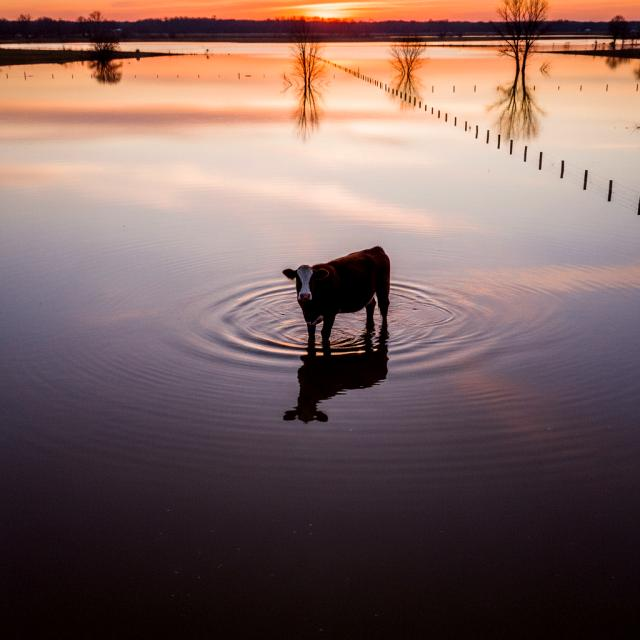cow: (273, 244, 407, 366)
